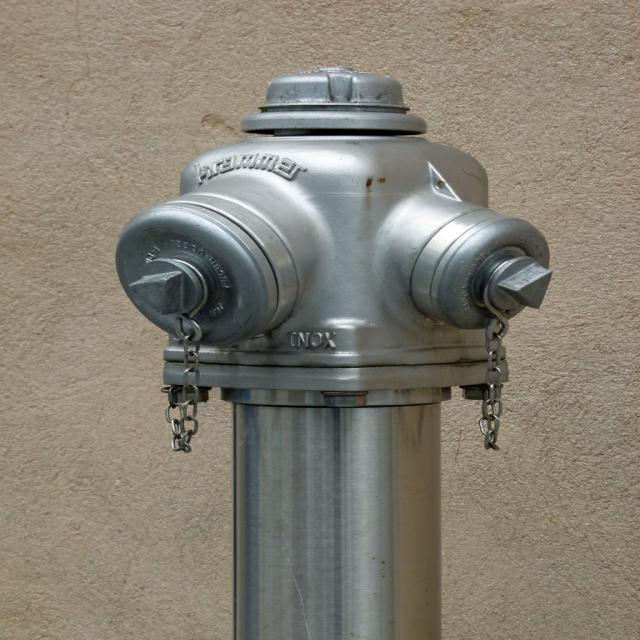fire_hydrant: (114, 66, 556, 640)
